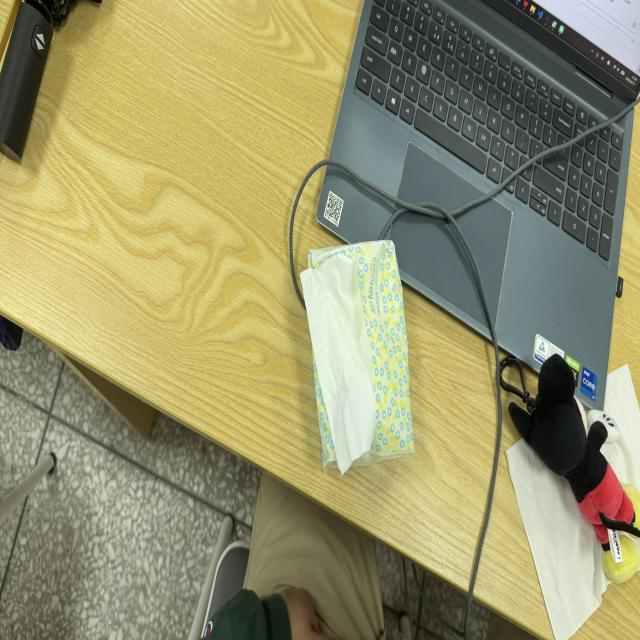mickey: (509, 355, 639, 582)
tissue: (301, 241, 414, 473), (506, 440, 609, 639)
